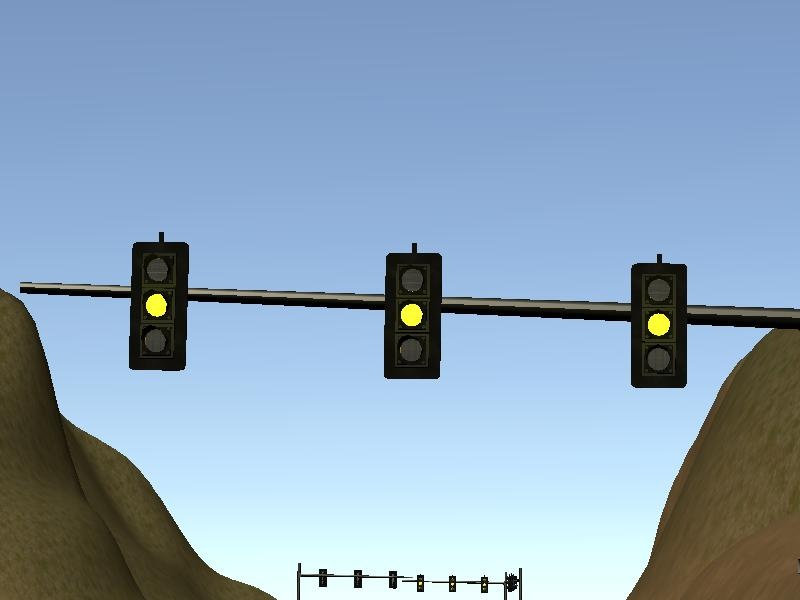YELLOW: (128, 242, 189, 372), (382, 251, 443, 381), (630, 264, 687, 390)
